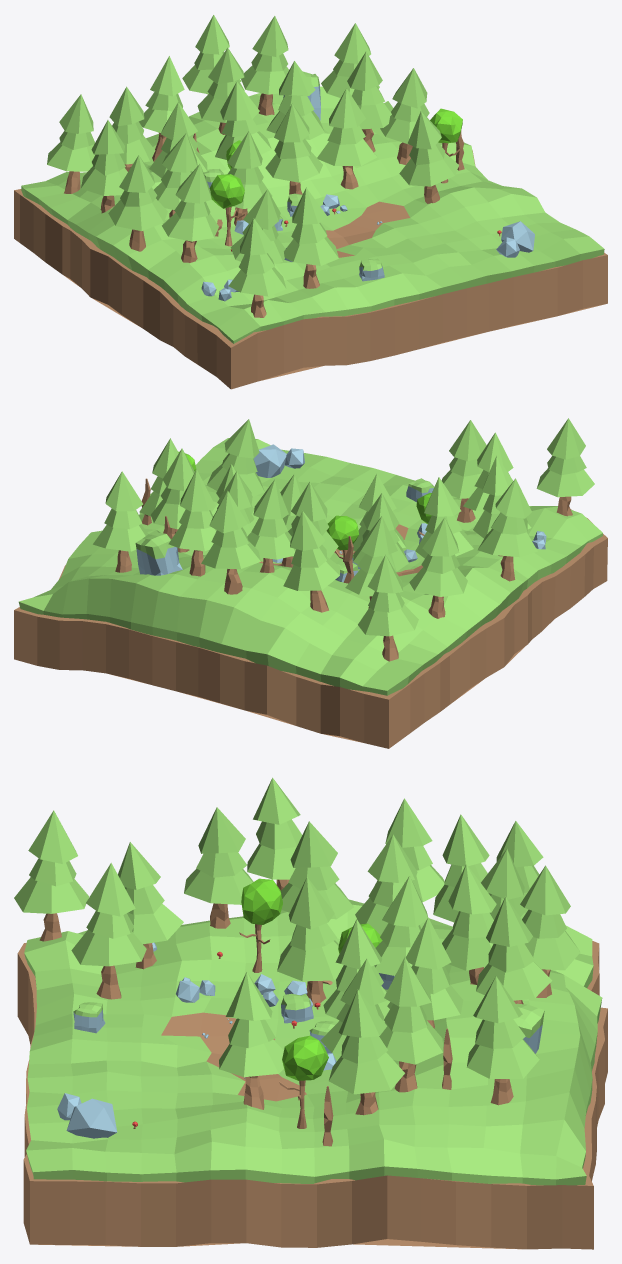
File: forestScene_wip.glb
3 renders of one model, top to bottom at view 1: azimuth 30°, elevation 25°; view 2: azimuth 150°, elevation 25°; view 3: azimuth 270°, elevation 25°, orthographic. The views are drawn at different scales.
Parts seen in each view (by area): view 1: GrassPlane, DirtLayer, Tree.008, Tree.004, Tree.021, Tree.022, Tree, Tree.020, Tree.005, Tree.012, Tree.015, Tree.011 (+16 smaller); view 2: GrassPlane, DirtLayer, Tree.012, Tree.017, Tree.007, Tree.011, Tree.020, Tree.008, Tree.016, Tree.015, Tree.014, Tree.022 (+15 smaller); view 3: GrassPlane, DirtLayer, Tree.022, Tree.016, Tree.018, Tree.020, Tree, Tree.010, Tree.003, Tree.021, Tree.015, Tree.017 (+19 smaller).
Part boxes in pixels (x1=…): GrassPlane: x1=21, y1=86, x2=604, y2=343; DirtLayer: x1=14, y1=150, x2=607, y2=389; Tree.008: x1=108, y1=155, x2=167, y2=251; Tree.004: x1=317, y1=88, x2=376, y2=189; Tree.021: x1=162, y1=164, x2=218, y2=262; Tree.022: x1=284, y1=187, x2=338, y2=288; Tree: x1=399, y1=111, x2=458, y2=203; Tree.020: x1=228, y1=218, x2=286, y2=317; Tree.005: x1=265, y1=103, x2=322, y2=194; Tree.012: x1=47, y1=94, x2=94, y2=193; Tree.015: x1=241, y1=16, x2=288, y2=115; Tree.011: x1=81, y1=120, x2=127, y2=213; GrassPlane: x1=18, y1=438, x2=602, y2=695; DirtLayer: x1=14, y1=509, x2=607, y2=748; Tree.012: x1=358, y1=554, x2=418, y2=661; Tree.017: x1=201, y1=491, x2=260, y2=594; Tree.007: x1=283, y1=511, x2=339, y2=612; Tree.011: x1=409, y1=517, x2=467, y2=618; Tree.020: x1=536, y1=418, x2=594, y2=516; Tree.008: x1=477, y1=478, x2=537, y2=581; Tree.016: x1=93, y1=471, x2=148, y2=572; Tree.015: x1=168, y1=469, x2=216, y2=576; Tree.014: x1=247, y1=479, x2=295, y2=572; Tree.022: x1=441, y1=420, x2=486, y2=522; GrassPlane: x1=24, y1=899, x2=602, y2=1185; DirtLayer: x1=17, y1=941, x2=607, y2=1249; Tree.022: x1=71, y1=863, x2=146, y2=999; Tree.016: x1=467, y1=976, x2=539, y2=1105; Tree.018: x1=329, y1=989, x2=404, y2=1115; Tree.020: x1=14, y1=810, x2=89, y2=941; Tree: x1=219, y1=972, x2=283, y2=1109; Tree.010: x1=277, y1=877, x2=343, y2=1005; Tree.003: x1=379, y1=957, x2=443, y2=1092; Tree.021: x1=184, y1=807, x2=253, y2=928; Tree.015: x1=476, y1=896, x2=552, y2=1004; Tree.017: x1=520, y1=865, x2=580, y2=997.
Bounding box in the file's own units: 17.51 × 8.46 × 17.18.
